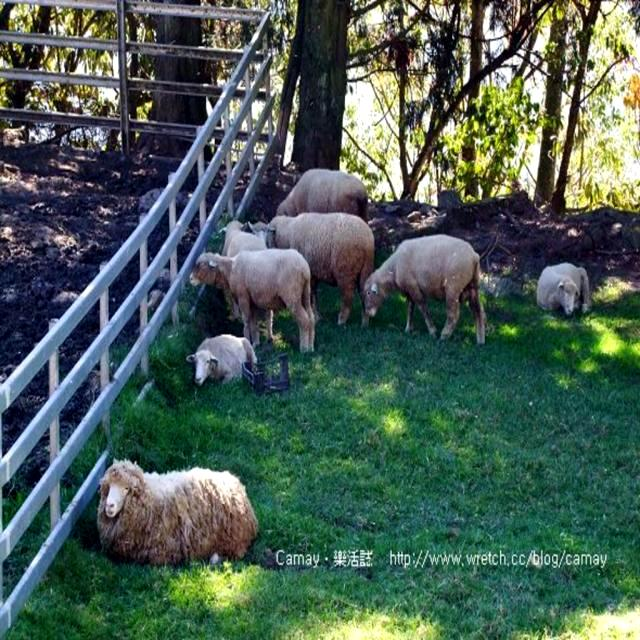sheep: (97, 464, 258, 555), (251, 213, 372, 324), (365, 233, 487, 343), (190, 250, 315, 353)
